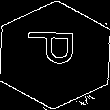P_E: (26, 35, 84, 75)
